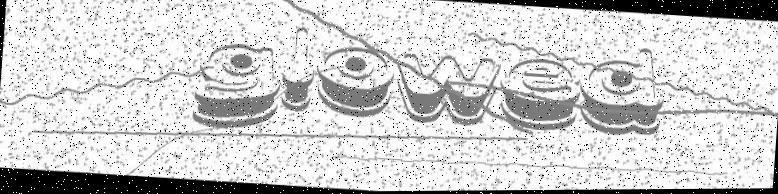d: (570, 41, 673, 147)
e: (496, 53, 586, 142)
g: (194, 36, 286, 132)
l: (277, 17, 318, 120)
o: (311, 38, 398, 122)
w: (391, 43, 503, 133)
